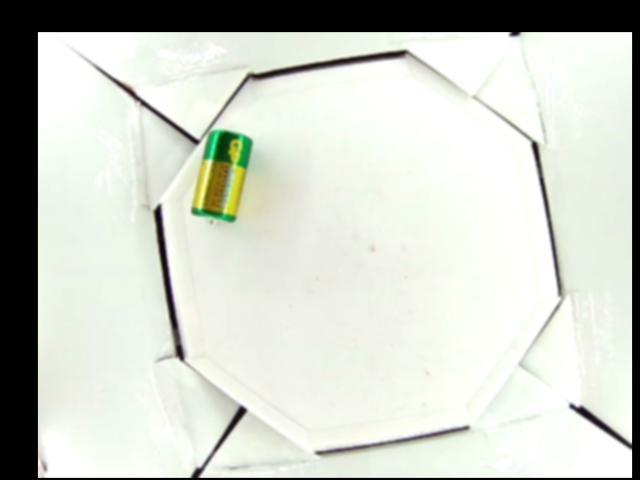Battery: (191, 129, 252, 227)
